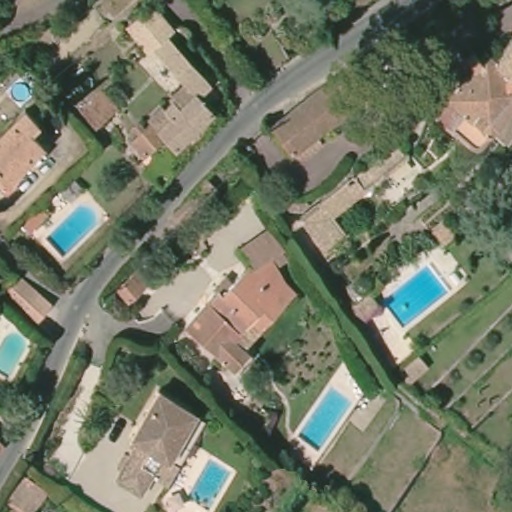pool: (384, 263, 451, 329), (295, 383, 355, 455), (44, 198, 104, 264), (185, 456, 234, 505), (1, 331, 35, 380), (8, 77, 36, 107)
